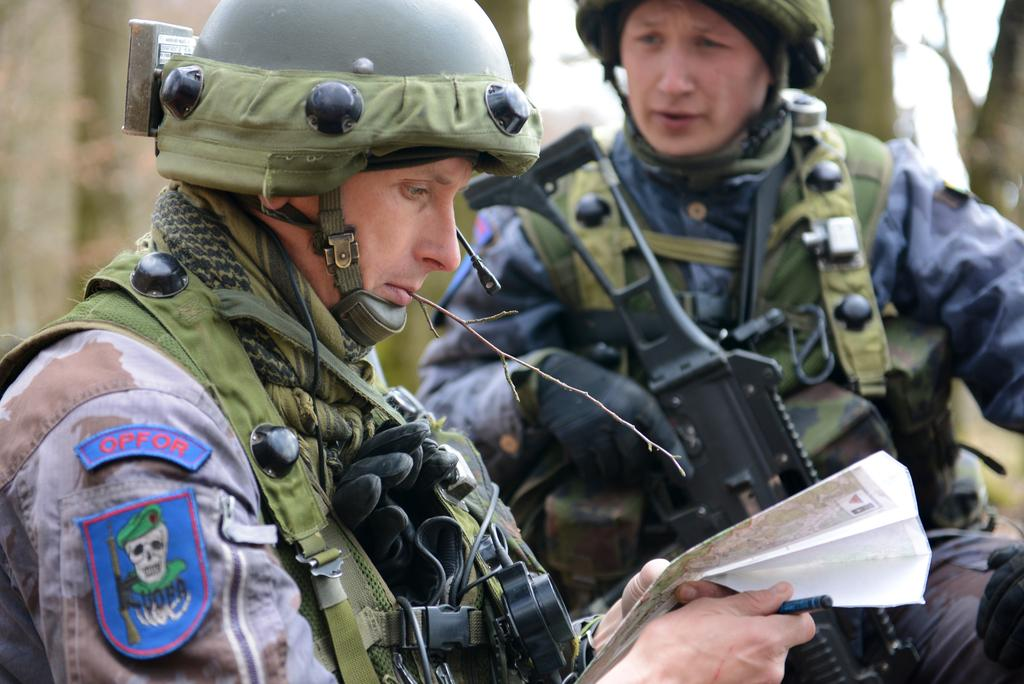Rifle: (460, 129, 920, 672)
